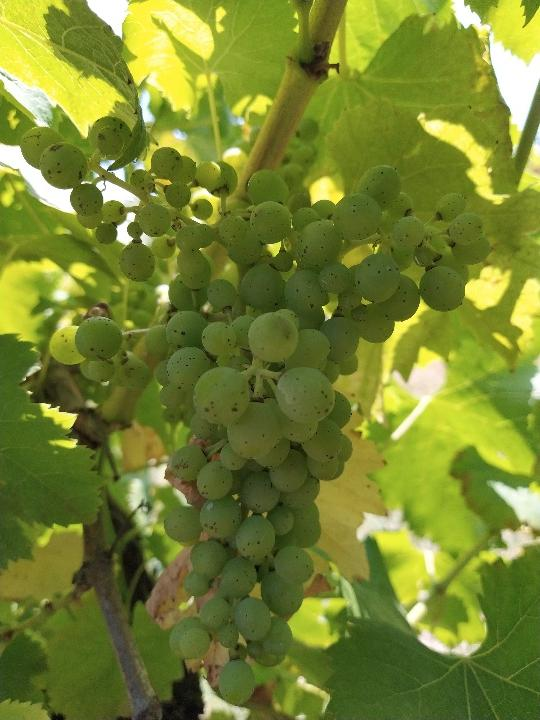grape: (16, 116, 488, 709)
